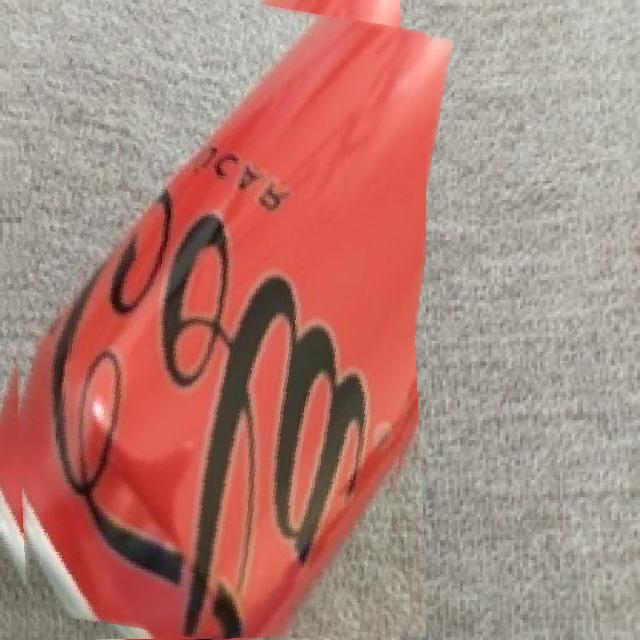recyclable: (0, 0, 426, 640)
